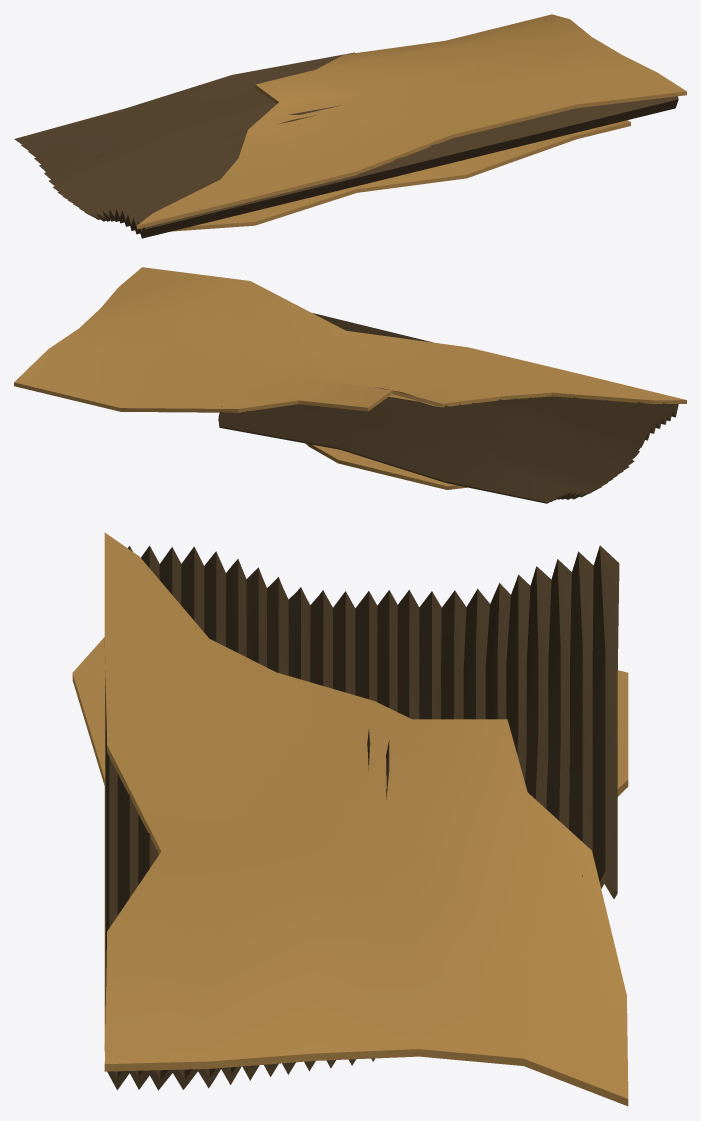
The model's file is Cardboard2.fbx.
The picture shows the model from 3 angles, top to bottom: view 1: azimuth 30°, elevation 25°; view 2: azimuth 150°, elevation 25°; view 3: azimuth 270°, elevation 25°; orthographic projection. The views are drawn at different scales.
Parts seen in each view (by area): view 1: Top, Middle, Bottom; view 2: Top, Middle, Bottom; view 3: Top, Middle, Bottom.
Part boxes in pixels (x1,y1,x2,y2): Top: (137,14,686,229); Middle: (14,52,678,238); Bottom: (171,120,630,231); Top: (14,267,686,412); Middle: (218,313,678,503); Bottom: (305,443,467,489); Top: (104,532,628,1106); Middle: (105,545,619,1090); Bottom: (72,637,628,1051).
Size of the model in its own units: 20.56 by 1.78 by 9.08.
